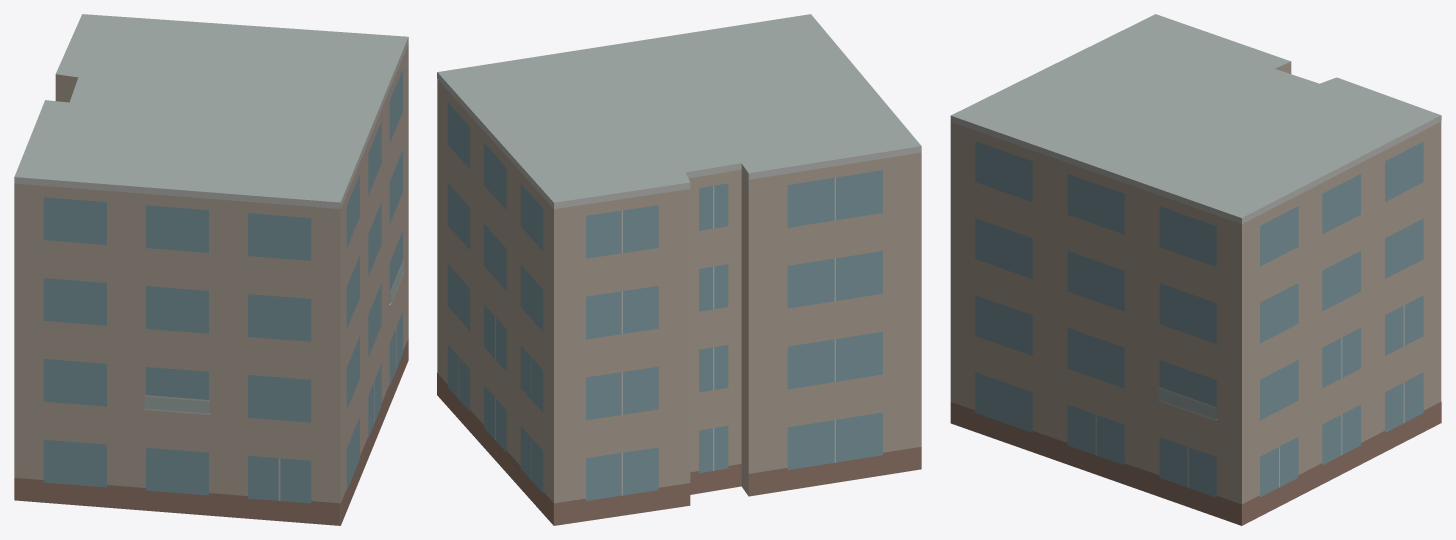
File: survey-upis-32703267.glb
The picture shows the model from 3 angles, left to right: view 1: azimuth 30°, elevation 25°; view 2: azimuth 150°, elevation 25°; view 3: azimuth 270°, elevation 25°; orthographic projection. The views are drawn at different scales.
Parts seen in each view (by area): view 1: survey-upis-32703267.tmp; view 2: survey-upis-32703267.tmp; view 3: survey-upis-32703267.tmp.
Boxes of the visible parts, x1,y1,x2,y2 form: survey-upis-32703267.tmp: (14,14,408,525); survey-upis-32703267.tmp: (437,14,921,525); survey-upis-32703267.tmp: (950,14,1441,525).
Bounding box in the file's own units: 17.36 × 12.2 × 17.64.
